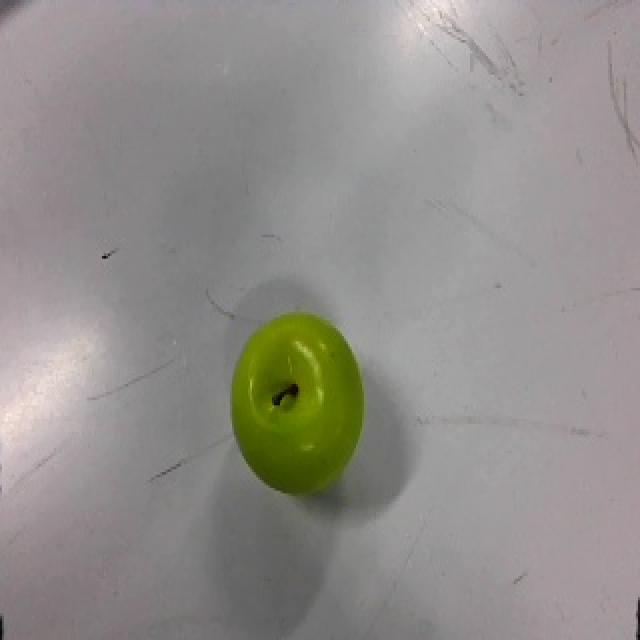apple: (230, 308, 366, 497)
